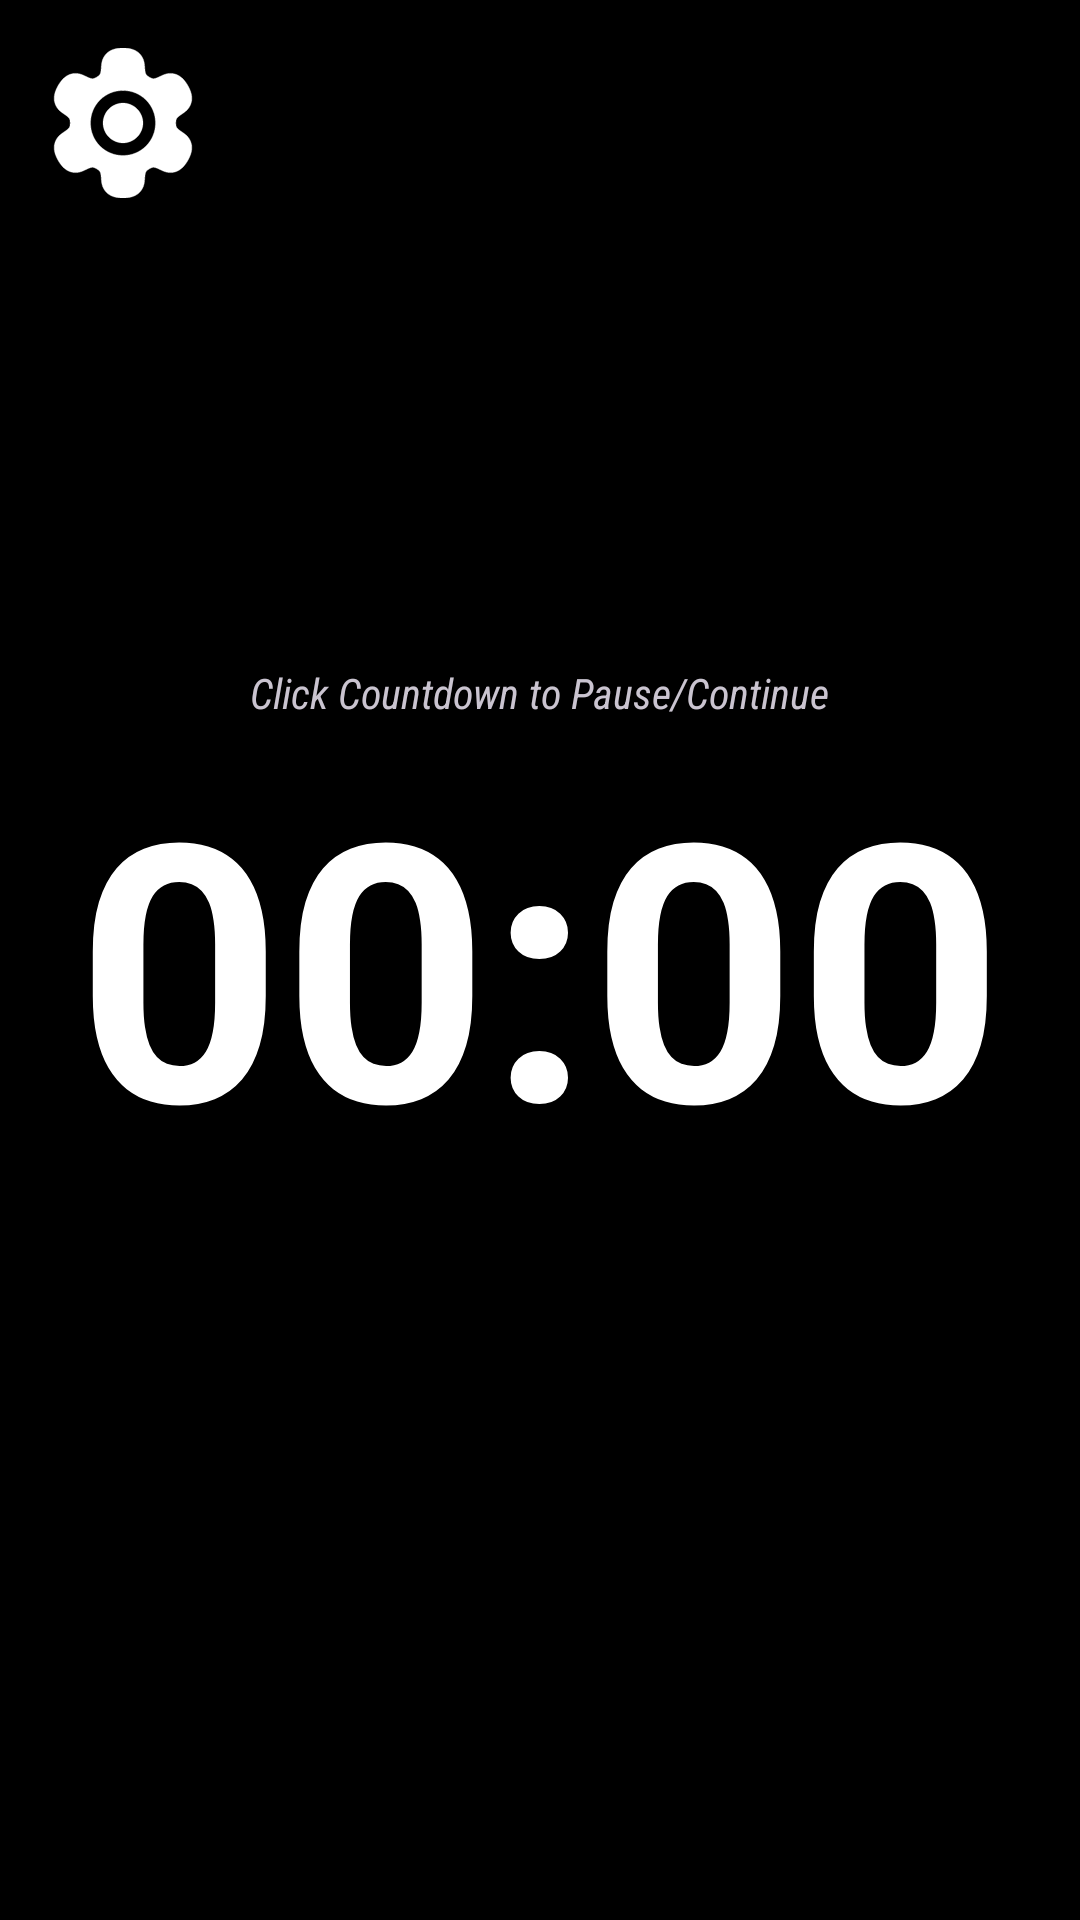

Screen size 1080×1920. Icon name, then its box in pixels as (x1, y1, x2, y2):
settings: (53, 48, 193, 198)
